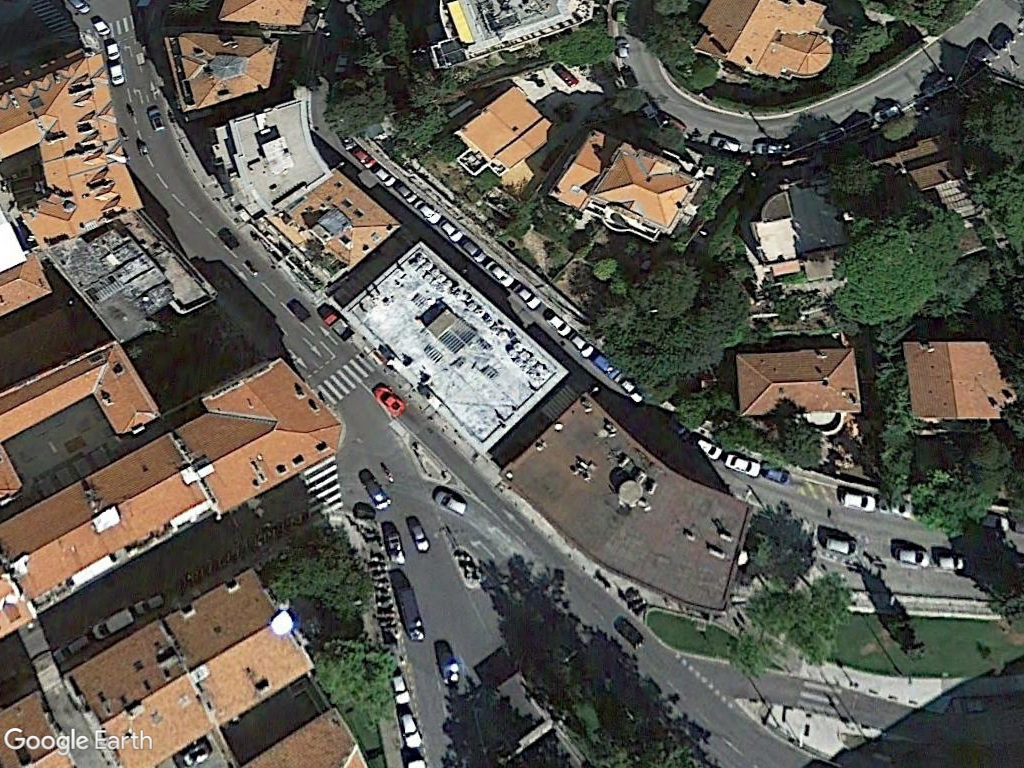car: (369, 381, 407, 416), (724, 447, 762, 480), (404, 515, 432, 555), (837, 488, 879, 514)
